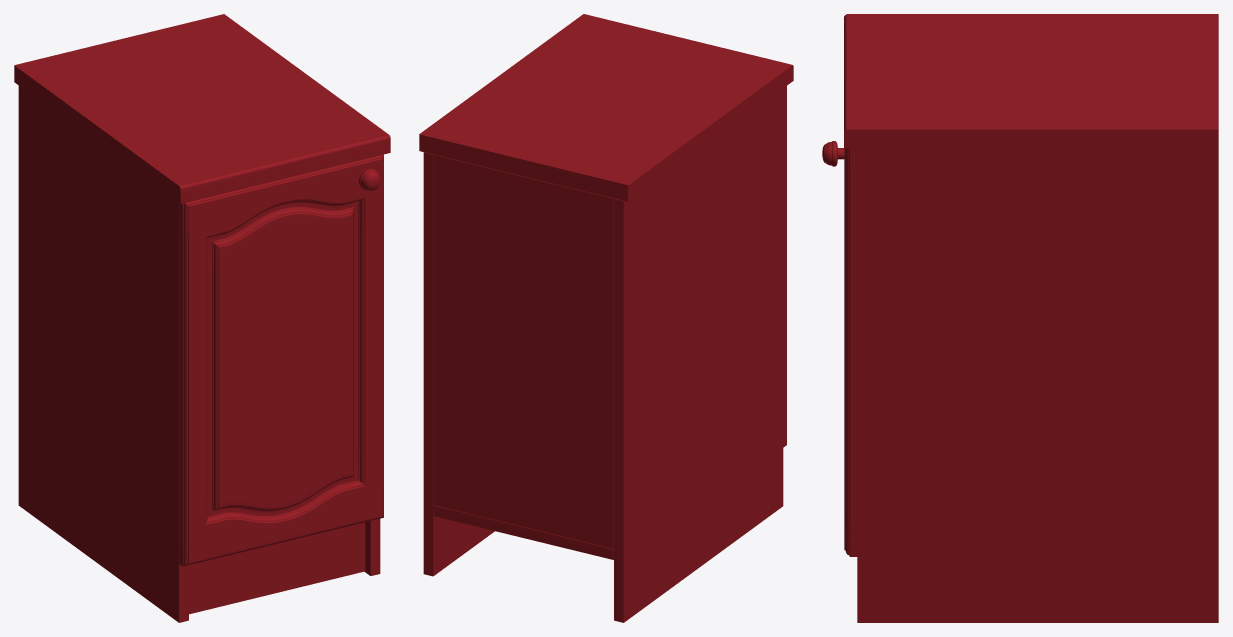
File: cupboard.fbx
3 renders of one model, left to right at view 1: azimuth 30°, elevation 25°; view 2: azimuth 150°, elevation 25°; view 3: azimuth 270°, elevation 25°, orthographic. The views are drawn at different scales.
Parts seen in each view (by area): view 1: Cupboard var.1; view 2: Cupboard var.1; view 3: Cupboard var.1.
Boxes of the visible parts, box(x1,y1,x2,y2) form: Cupboard var.1: box(14, 14, 390, 622); Cupboard var.1: box(419, 14, 793, 622); Cupboard var.1: box(822, 14, 1218, 622).
Size of the model in its own units: 41.77 by 83.79 by 60.62.
